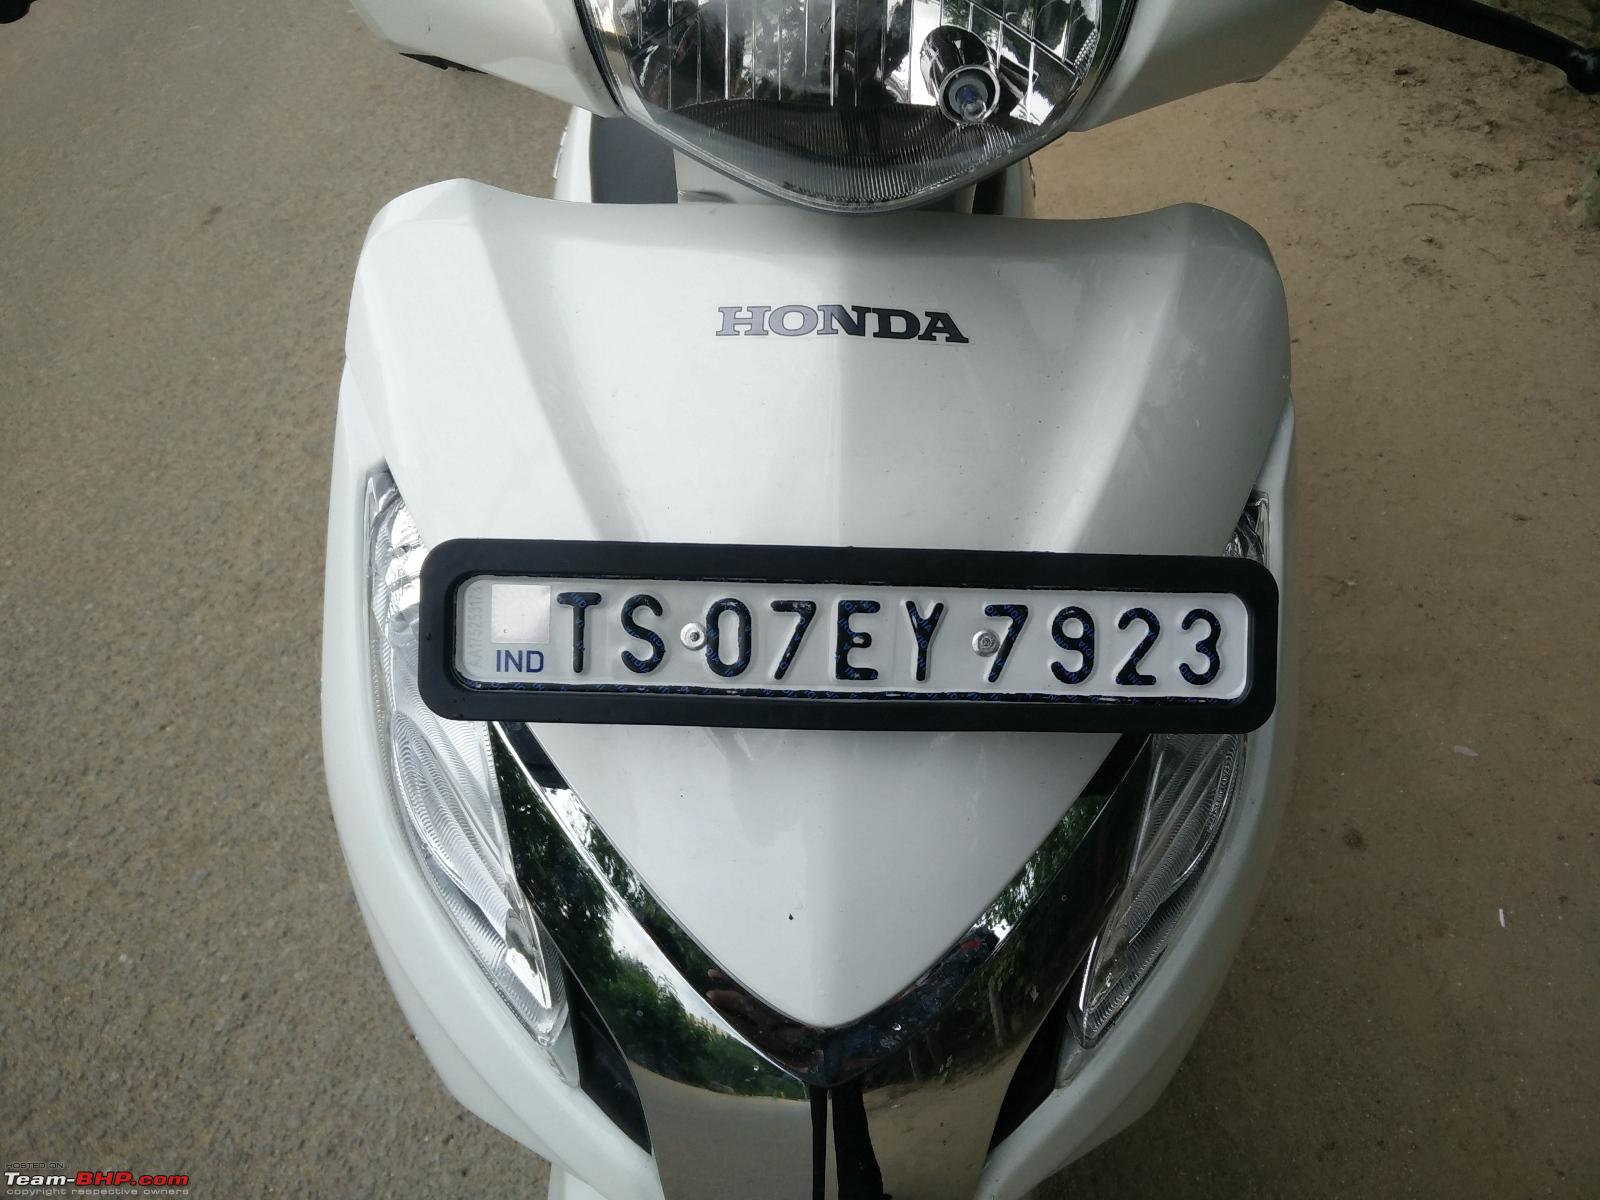numberplate: (431, 552, 1268, 724)
